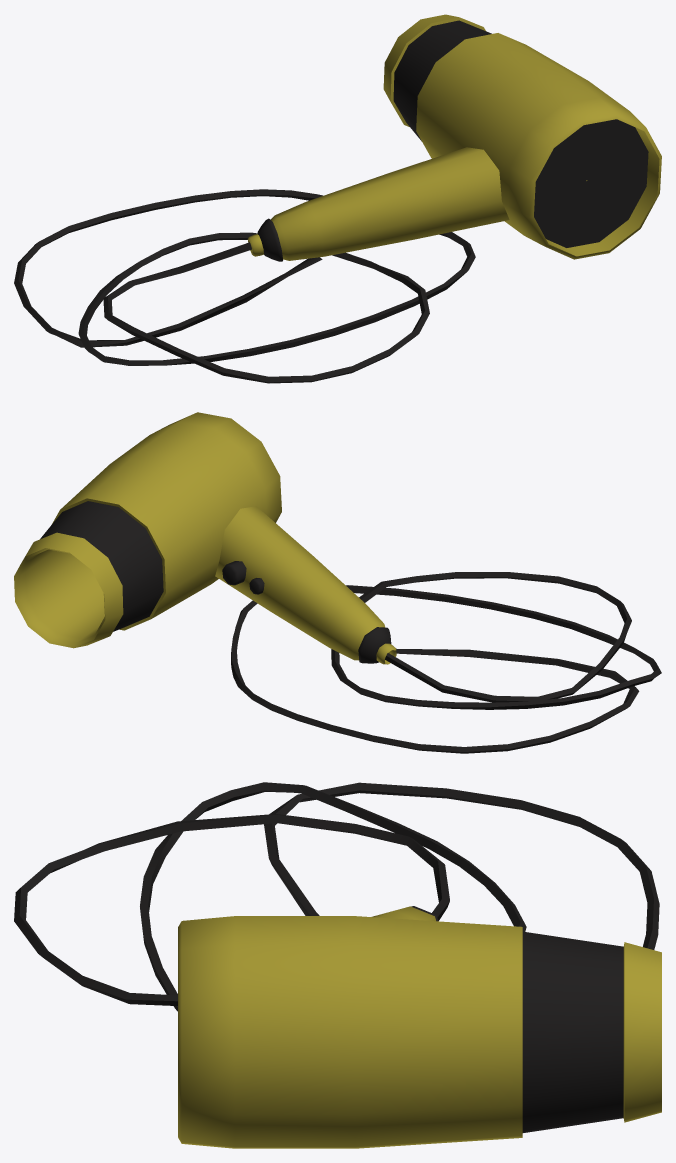
The model's file is foen.fbx.
3 views of the same model, one above another, from view 1: azimuth 30°, elevation 25°; view 2: azimuth 150°, elevation 25°; view 3: azimuth 270°, elevation 25° (orthographic). The views are drawn at different scales.
Parts seen in each view (by area): view 1: Foen; view 2: Foen; view 3: Foen.
Boxes of the visible parts, box(x1,y1,x2,y2) form: Foen: box(14, 14, 661, 383); Foen: box(14, 412, 661, 753); Foen: box(14, 782, 661, 1148).
Size of the model in its own units: 829 by 207 by 571.
